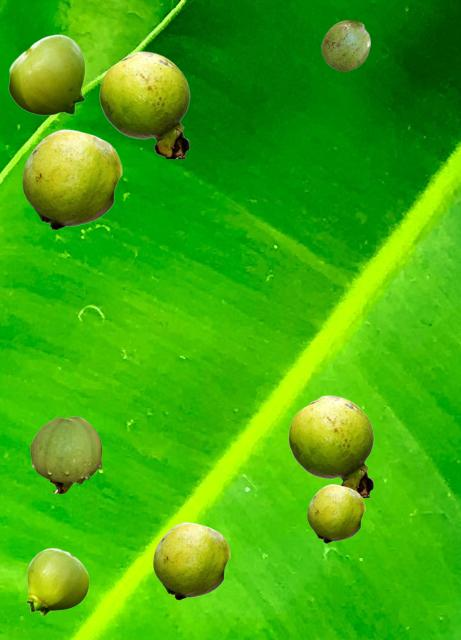guava: (22, 129, 121, 229), (99, 51, 189, 157), (288, 395, 373, 496), (8, 34, 84, 114), (153, 522, 229, 599), (30, 416, 101, 493), (26, 548, 88, 615), (307, 484, 364, 542), (321, 20, 369, 70)
